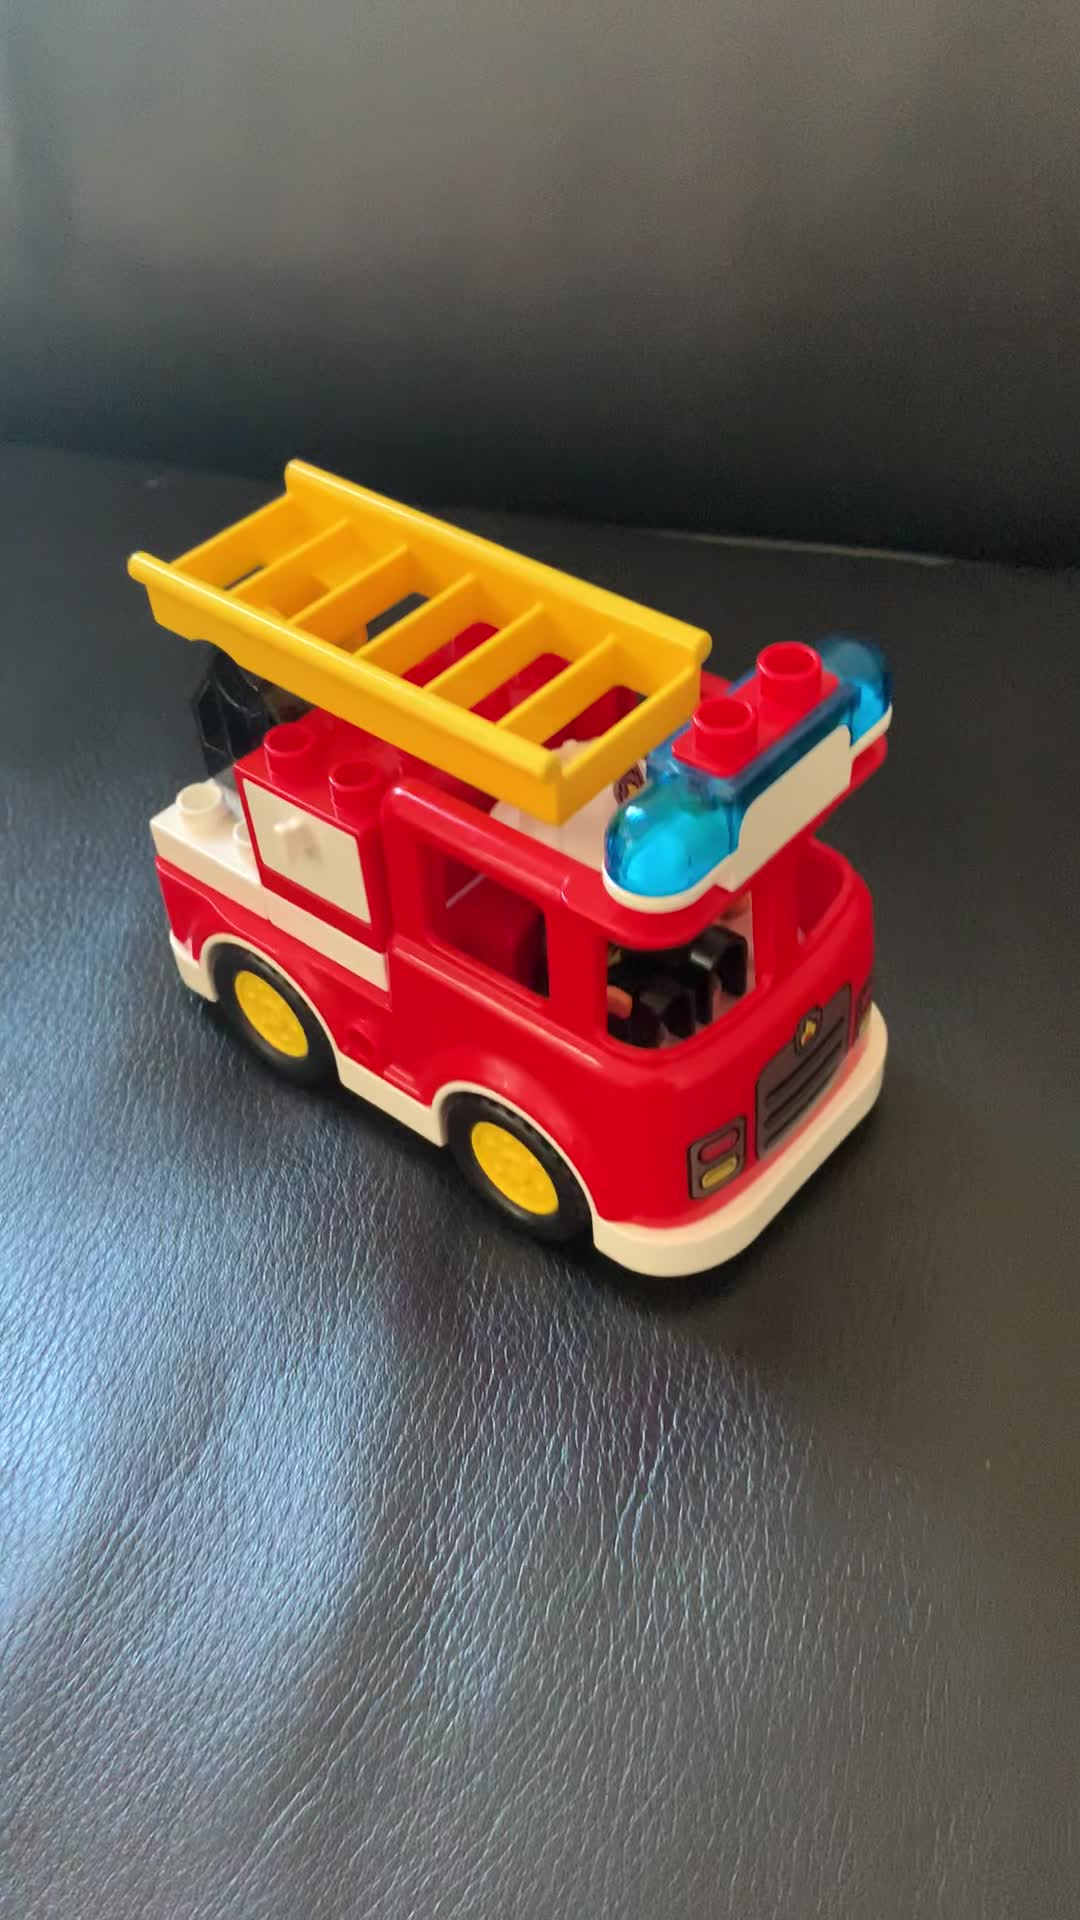lego fire truck: (124, 451, 898, 1283)
